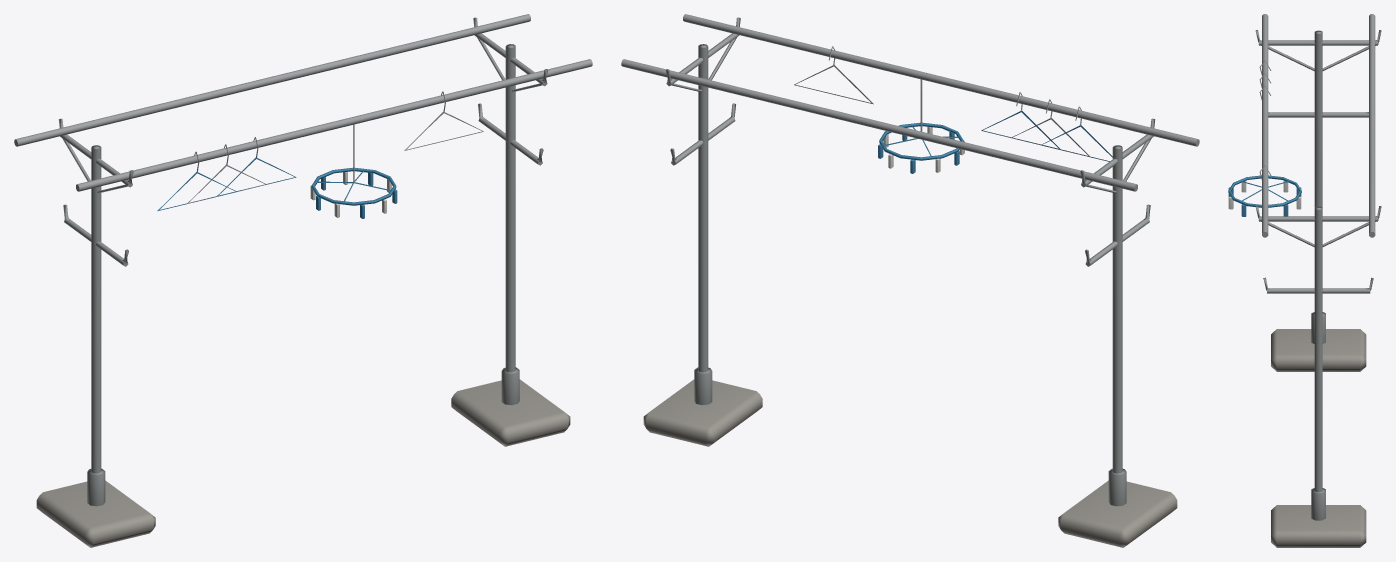
The model's file is LaundryPoleKM.fbx.
3 views of the same model, side by side, from view 1: azimuth 30°, elevation 25°; view 2: azimuth 150°, elevation 25°; view 3: azimuth 270°, elevation 25° (orthographic). The views are drawn at different scales.
Visible parts, largest first — view 1: LaundryPoleKM; view 2: LaundryPoleKM; view 3: LaundryPoleKM.
Boxes of the visible parts, box(x1,y1,x2,y2) form: LaundryPoleKM: box(14, 14, 592, 547); LaundryPoleKM: box(621, 14, 1199, 547); LaundryPoleKM: box(1228, 14, 1381, 547).
Size of the model in its own units: 2.6 by 1.83 by 0.7739.
